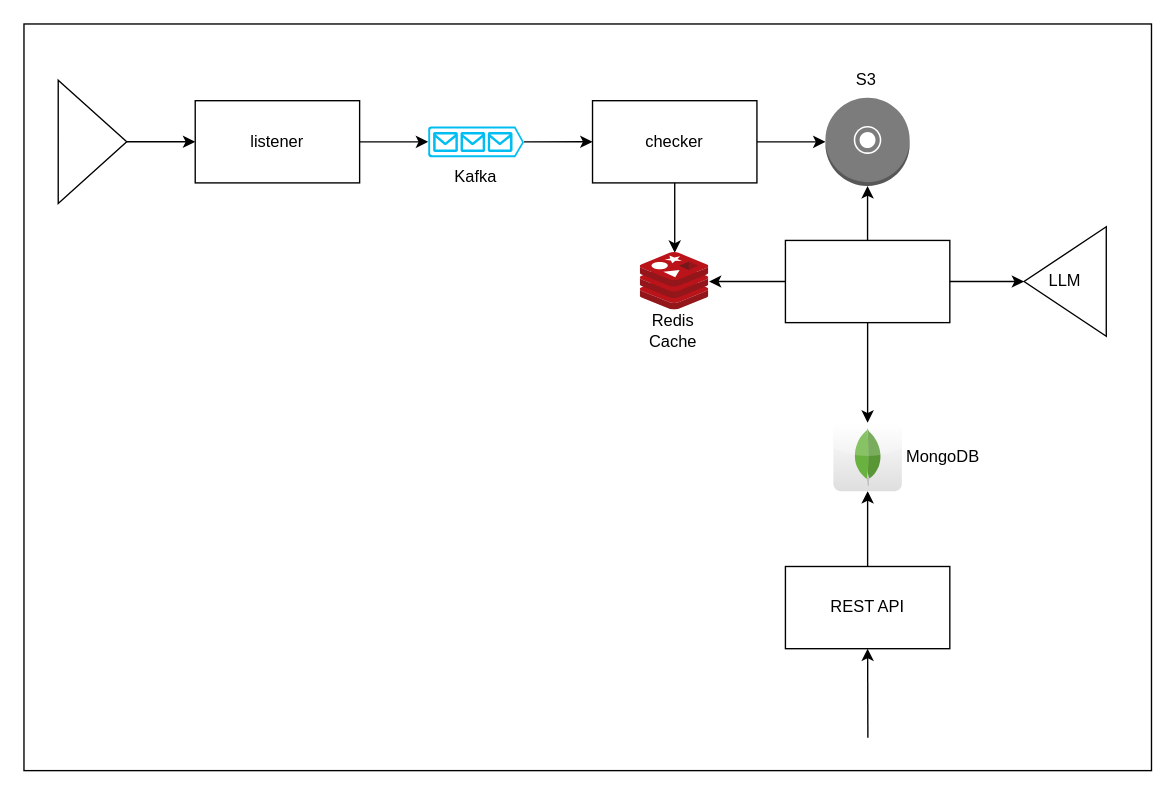
Image size: 1175x795. Some labels were removed from this diagram. The shapes that lost their labels are listed below. From the top down, each one's box as (x1, y1, x2, y2) in pixels, then its label:
(57, 79, 127, 203): bluesky
(784, 239, 950, 323): observer
